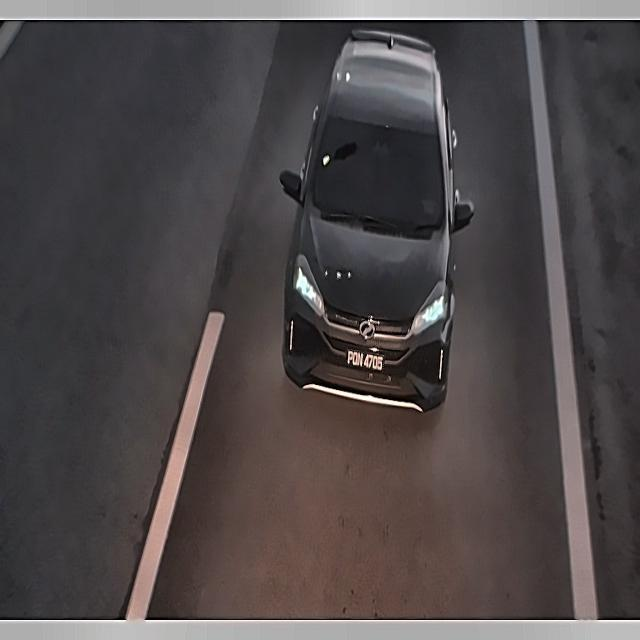car: (342, 340, 389, 380)
